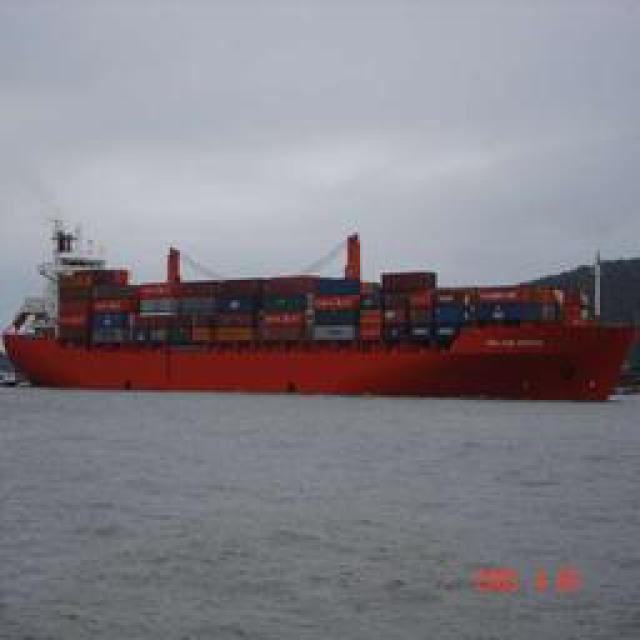Ship: (4, 243, 634, 398)
